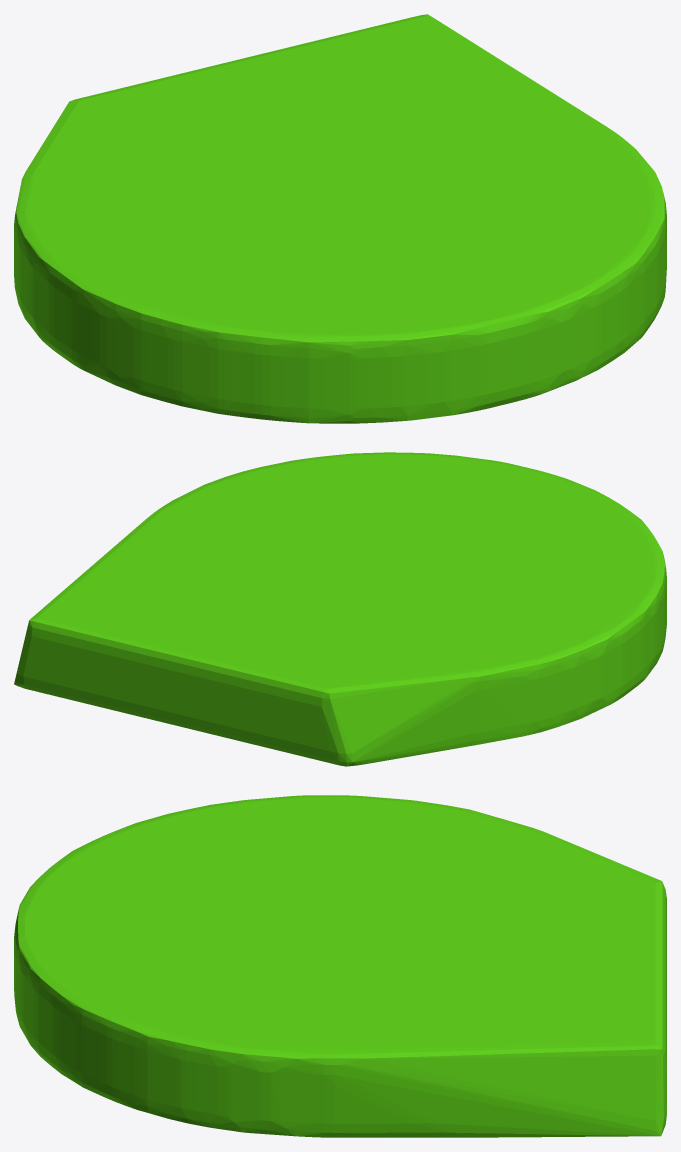
File: right_hip_pitch_link_part_17.obj
3 views of the same model, one above another, from view 1: azimuth 30°, elevation 25°; view 2: azimuth 150°, elevation 25°; view 3: azimuth 270°, elevation 25° (orthographic). The views are drawn at different scales.
Bounding box in the file's own units: 0.1242 × 0.0179 × 0.129.
